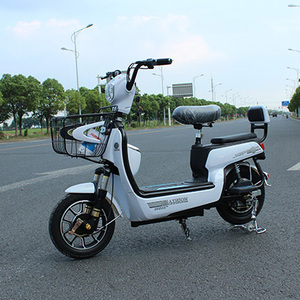电动车: (44, 55, 273, 265)
